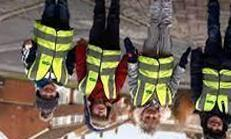Vest: (30, 22, 73, 84), (81, 41, 118, 99), (137, 54, 174, 106), (199, 67, 231, 114)
